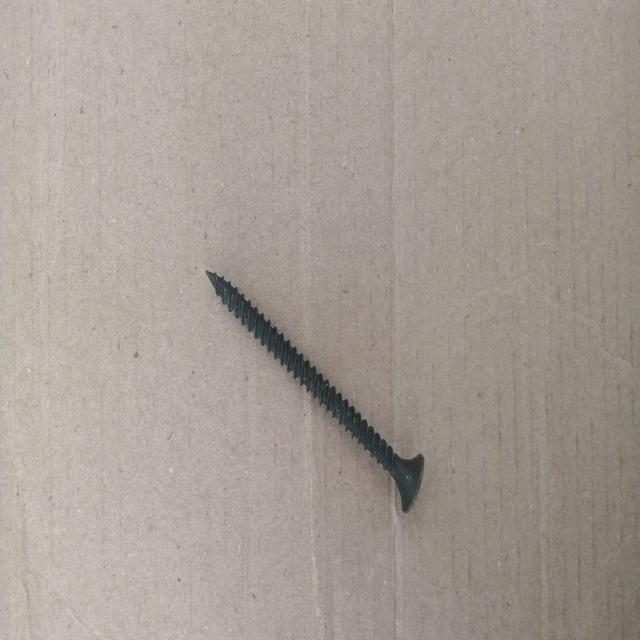screw: (205, 266, 425, 512)
